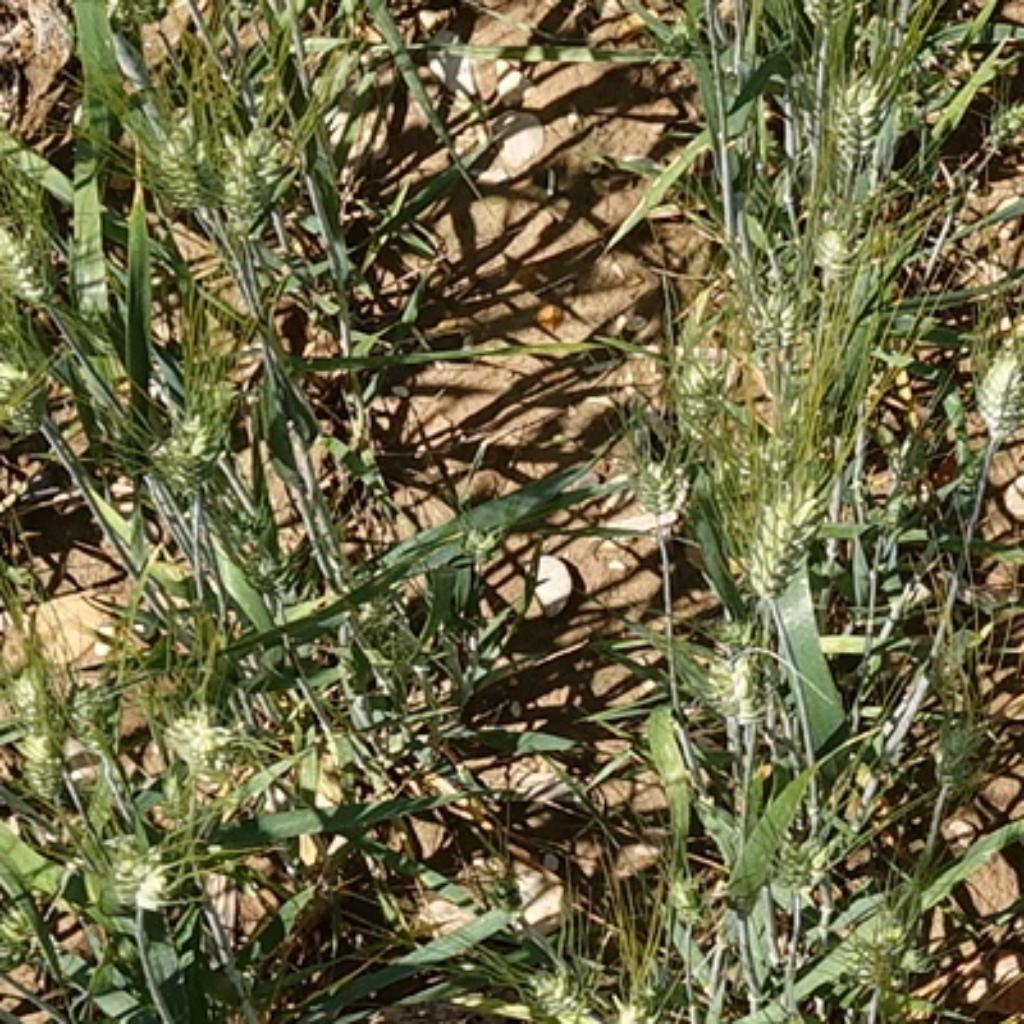0-0: (7, 640, 114, 814), (125, 76, 220, 222), (747, 463, 836, 592), (69, 814, 168, 916), (222, 120, 309, 231), (2, 192, 69, 320), (699, 606, 771, 720), (824, 81, 896, 192), (162, 393, 231, 501), (158, 706, 243, 788), (514, 944, 601, 1024), (842, 917, 924, 998), (811, 187, 892, 269), (2, 363, 74, 450), (916, 708, 986, 797), (614, 437, 686, 522), (645, 857, 724, 931), (737, 279, 788, 391), (967, 335, 1024, 435), (768, 796, 821, 868), (975, 87, 1024, 156), (611, 990, 661, 1024)
